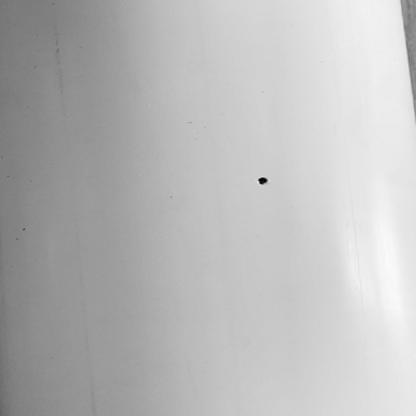kongdong: (253, 162, 274, 194)
